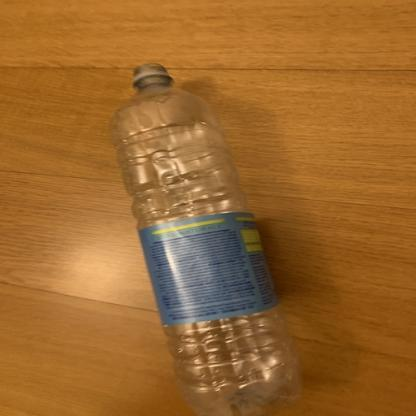trash: (110, 61, 306, 416)
